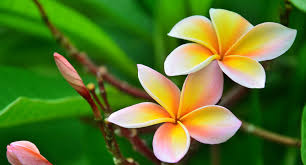frangipani: (106, 60, 243, 163)
